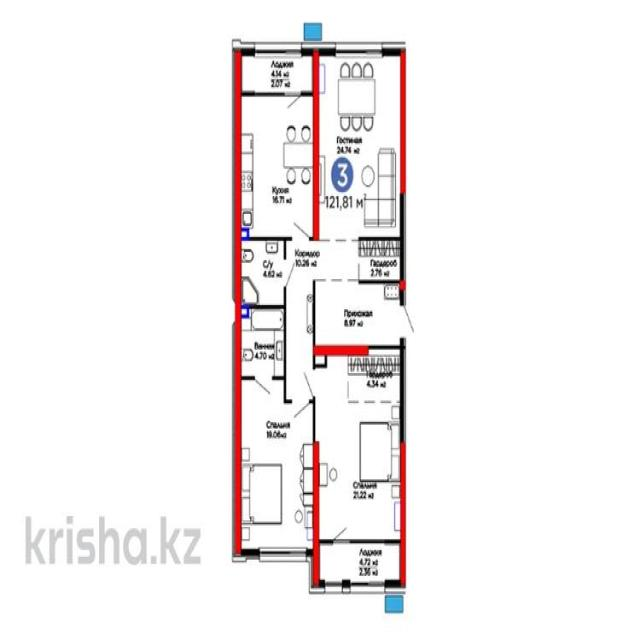balcony: (238, 49, 316, 97), (315, 546, 405, 584)
bathroom: (237, 301, 285, 377), (237, 237, 286, 304)
hallway: (285, 240, 359, 400), (315, 281, 404, 345)
kitchen: (237, 95, 315, 238)
living_room: (314, 350, 406, 540), (316, 49, 404, 241), (239, 376, 316, 559)
other: (359, 240, 403, 280)
